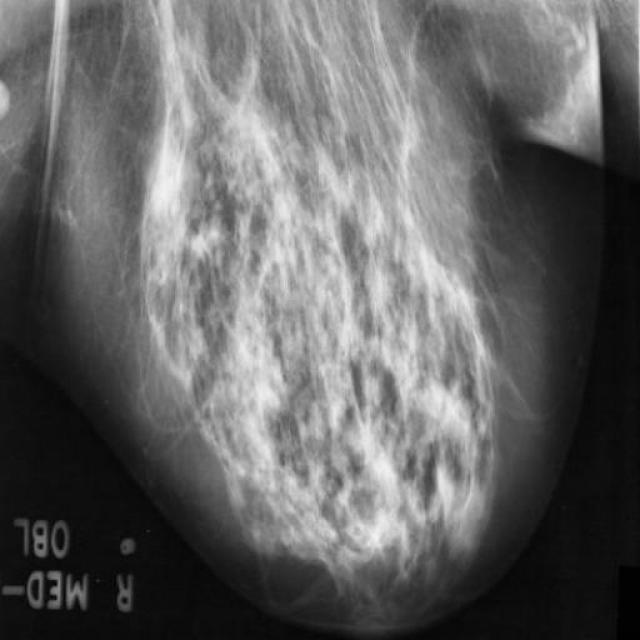cancer: (232, 315, 306, 455)
